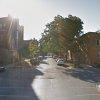Tree: (39, 8, 86, 65)
